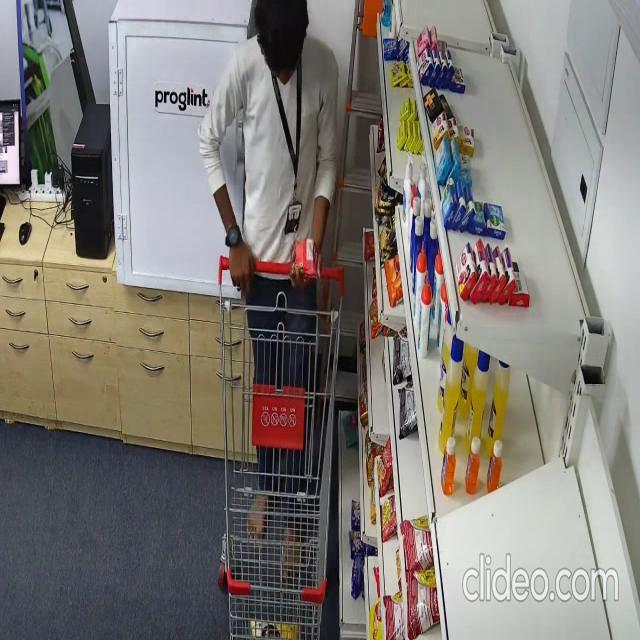normal: (199, 0, 343, 578)
